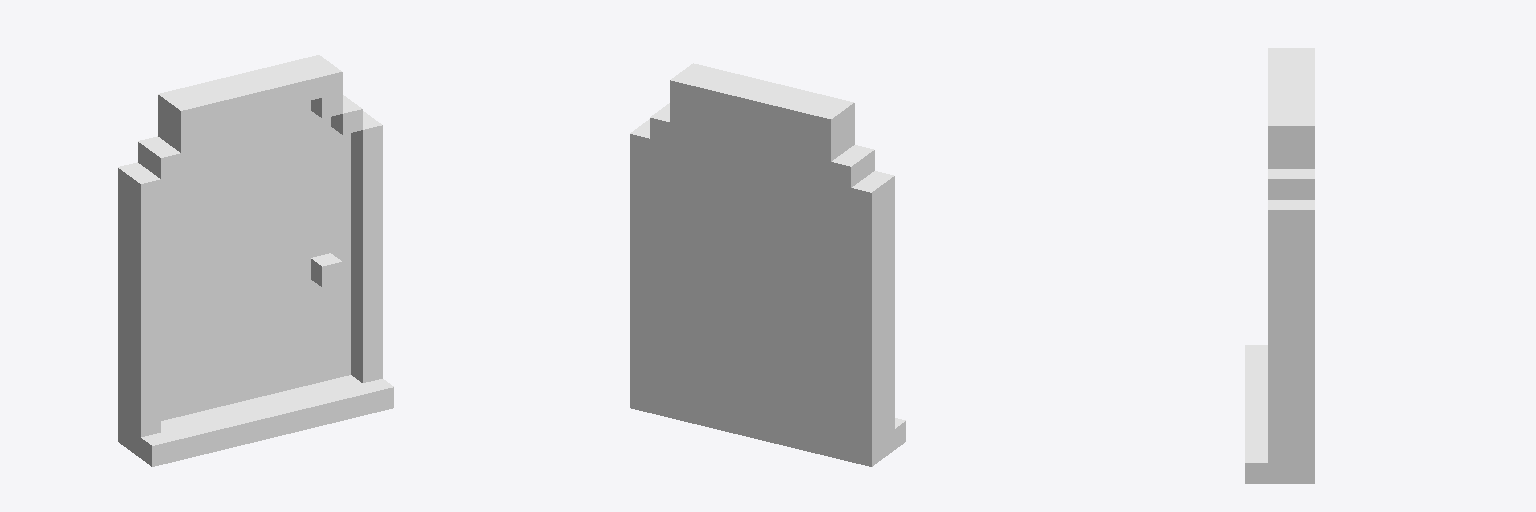
File: Doorway001.obj
3 renders of one model, left to right at view 1: azimuth 30°, elevation 25°; view 2: azimuth 150°, elevation 25°; view 3: azimuth 270°, elevation 25°, orthographic.
Visible parts, largest first — view 1: object 1; view 2: object 1; view 3: object 1.
Boxes of the visible parts, x1=… form: object 1: x1=118, y1=55, x2=393, y2=466; object 1: x1=630, y1=63, x2=905, y2=466; object 1: x1=1245, y1=48, x2=1314, y2=483.
Size of the model in its own units: 1.2 by 1.6 by 0.3.